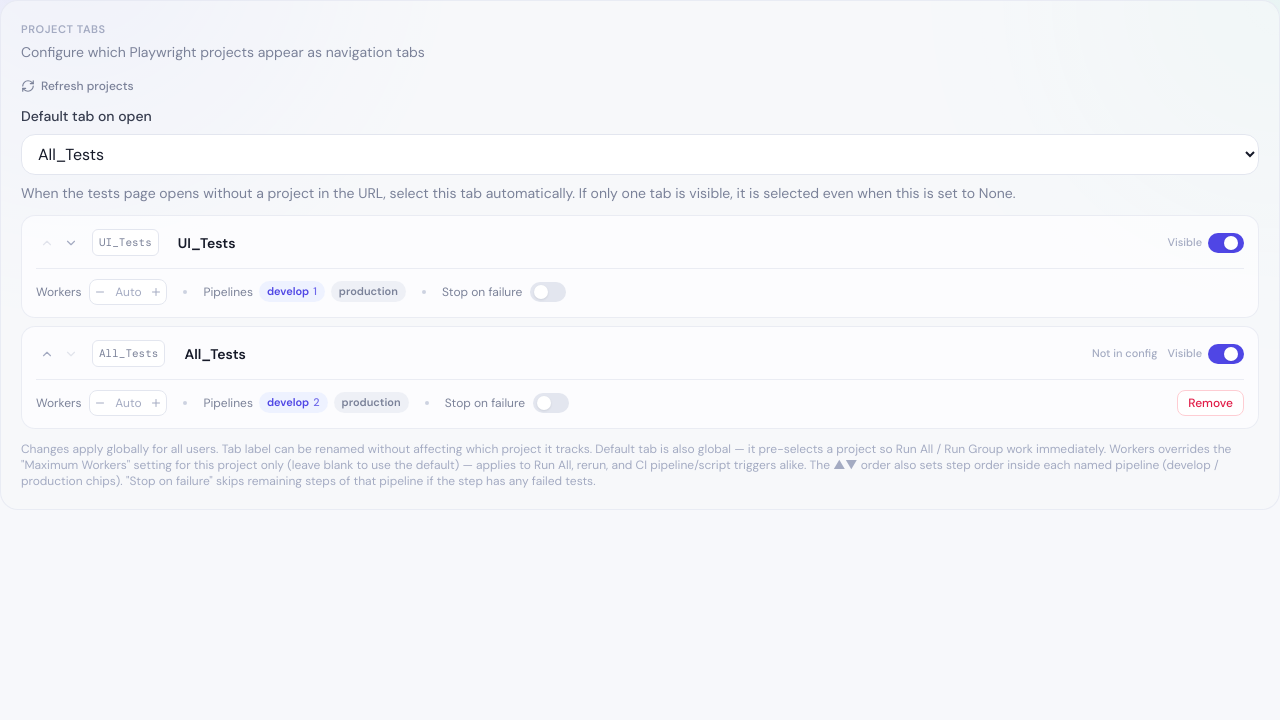
it: SettingsProjectTabsSection - removing stale tabs › clears the default tab when the removed tab was the default
Expected: the dropdown labelled "Default tab on open" shows "All_Tests", [21, 134, 1259, 174]
What coordinates should you click on to do the following:
click the button with aria-label "Remove stale tab All_Tests"
I would click on:
 (1211, 402)
Its box is [1177, 390, 1244, 416].
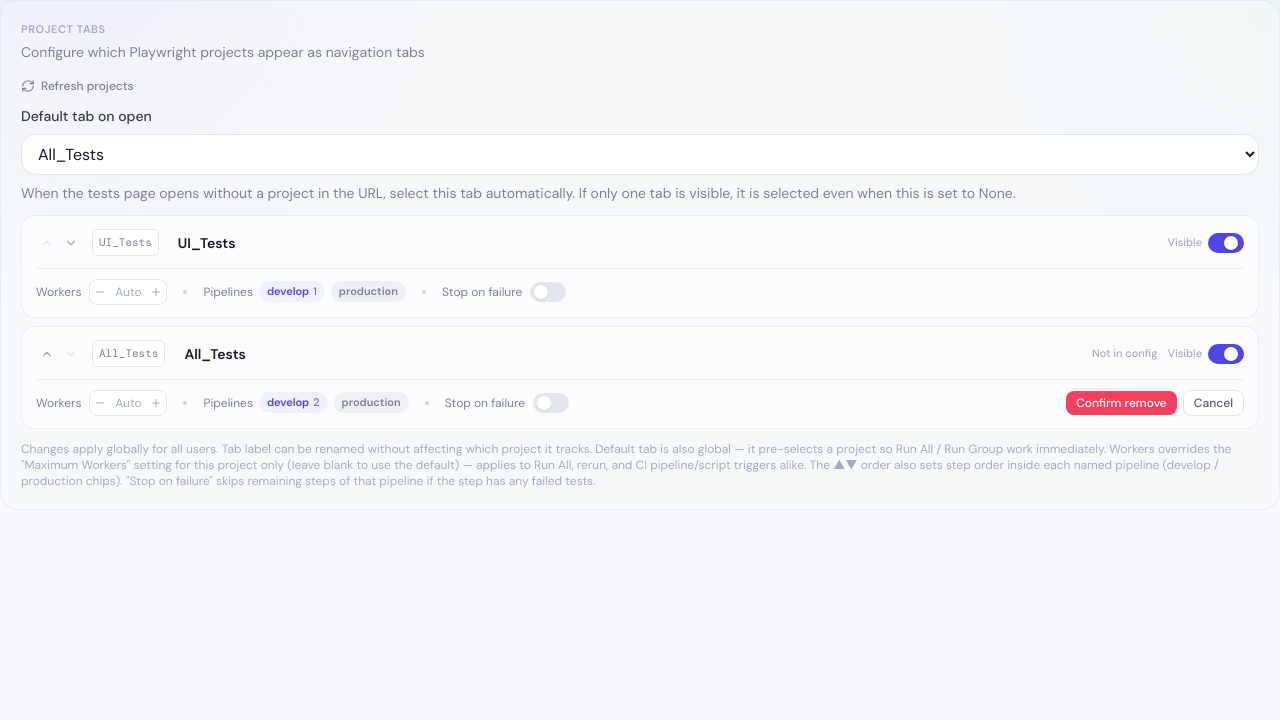
What coordinates should you click on to do the following:
click the button with aria-label "Confirm remove All_Tests"
I would click on:
 (1121, 402)
Its box is [1066, 390, 1177, 414].
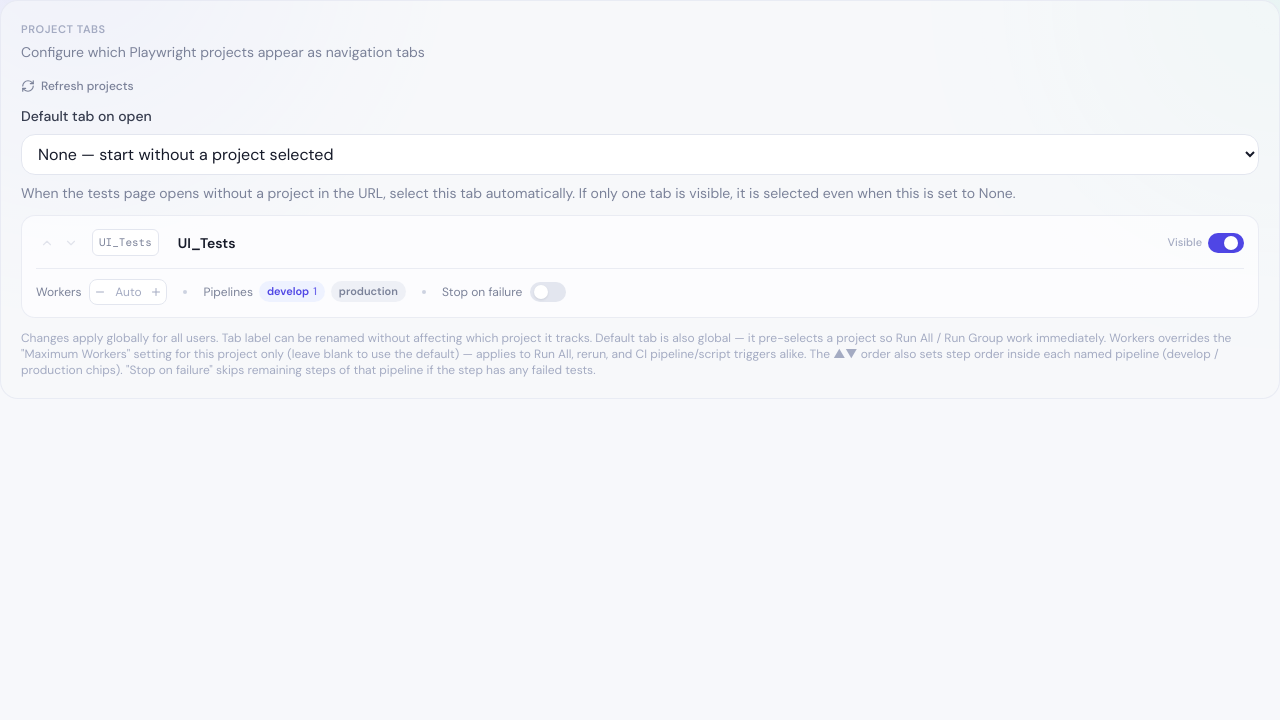
Now the dropdown labelled "Default tab on open" shows "None — start without a project selected", box [21, 134, 1259, 174]
